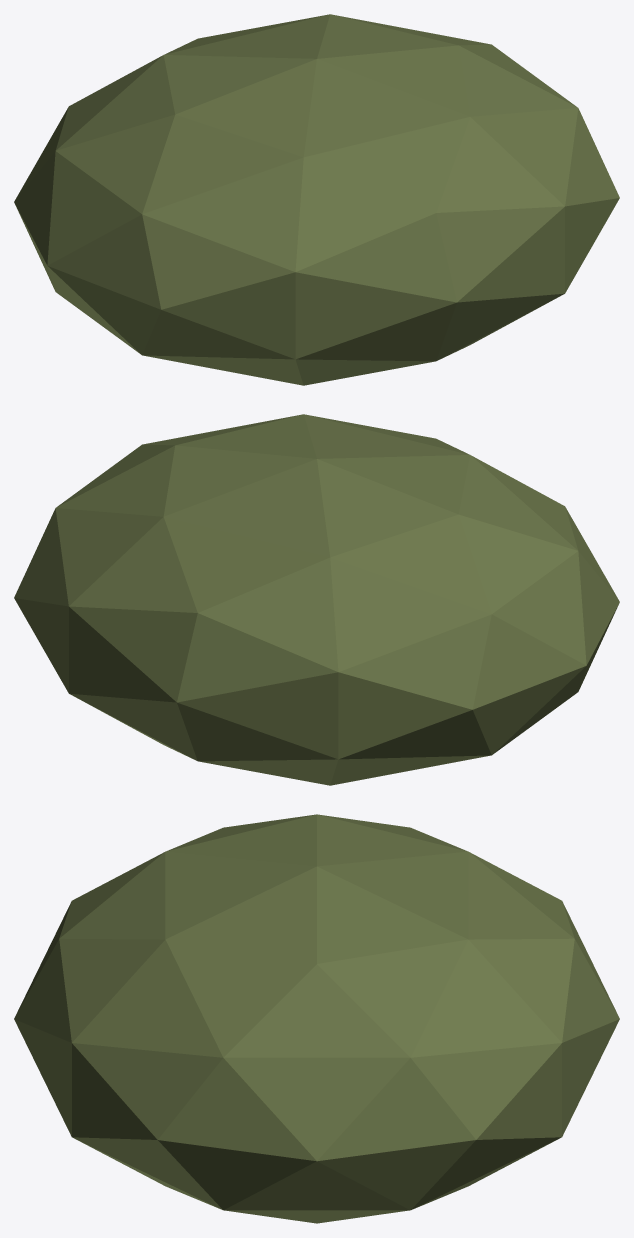
File: small_hill.glb
The picture shows the model from 3 angles, top to bottom: view 1: azimuth 30°, elevation 25°; view 2: azimuth 150°, elevation 25°; view 3: azimuth 270°, elevation 25°; orthographic projection. The views are drawn at different scales.
Visible parts, largest first — view 1: world-scenery/small_hill; view 2: world-scenery/small_hill; view 3: world-scenery/small_hill.
Part boxes in pixels (bbox=[...]): world-scenery/small_hill: bbox=[14, 14, 619, 385]; world-scenery/small_hill: bbox=[14, 414, 619, 785]; world-scenery/small_hill: bbox=[14, 814, 619, 1223].
Bounding box in the file's own units: 6 × 3 × 5.4.
